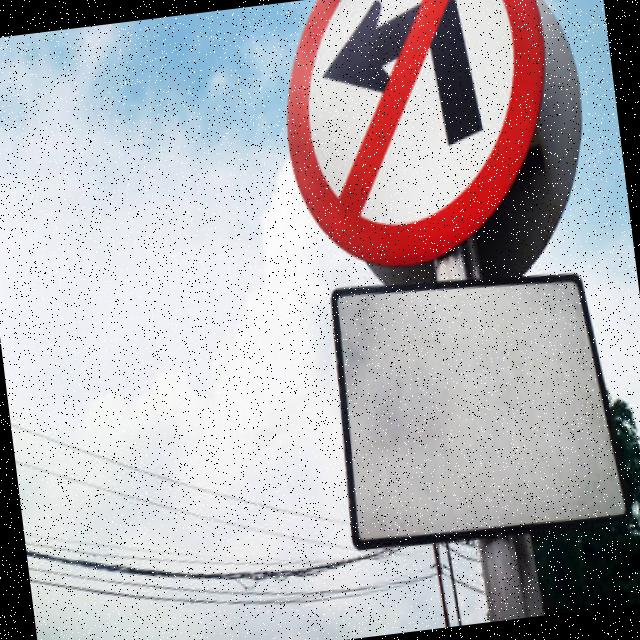do_not_turn_right: (260, 0, 579, 287)
